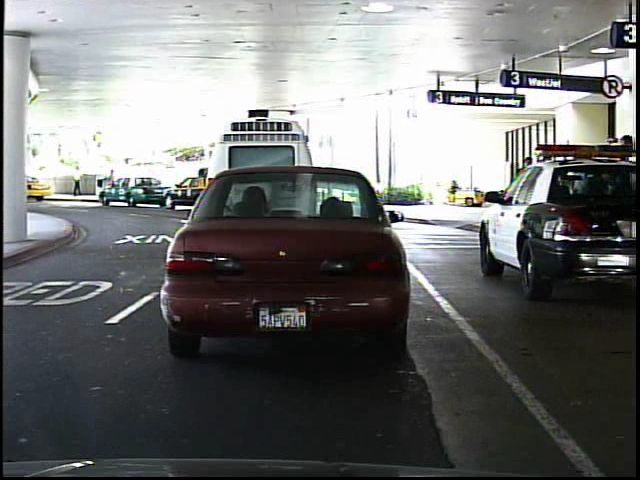person: (610, 129, 640, 259), (510, 151, 539, 223), (103, 166, 121, 201), (72, 162, 86, 199)
